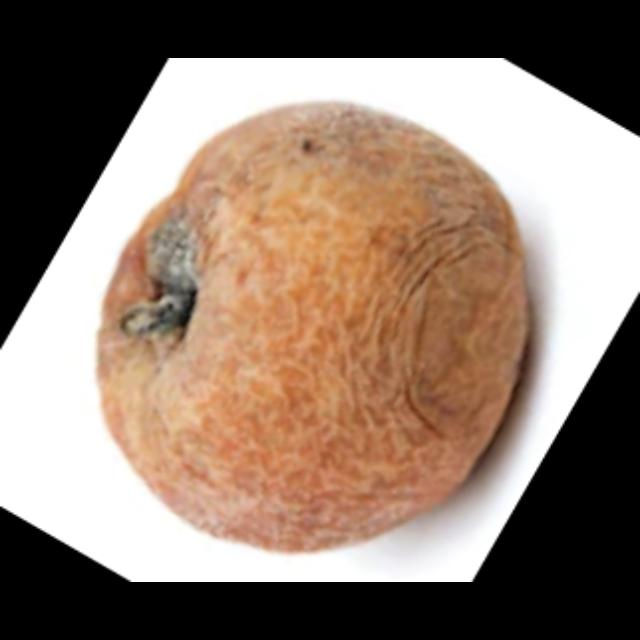Apel Tidak Segar: (36, 89, 586, 566)
